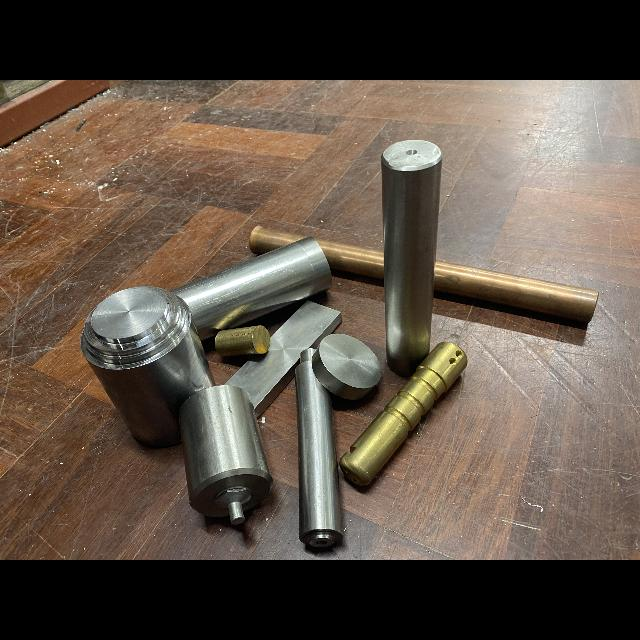Brass: (341, 342, 468, 486), (215, 325, 270, 356)
Copper: (434, 262, 598, 323), (317, 238, 383, 278), (250, 226, 300, 252)
Stainless Steel: (81, 287, 215, 434), (170, 237, 332, 340), (381, 140, 442, 376), (226, 301, 342, 416), (179, 385, 273, 524), (295, 349, 342, 547), (312, 334, 381, 400)
